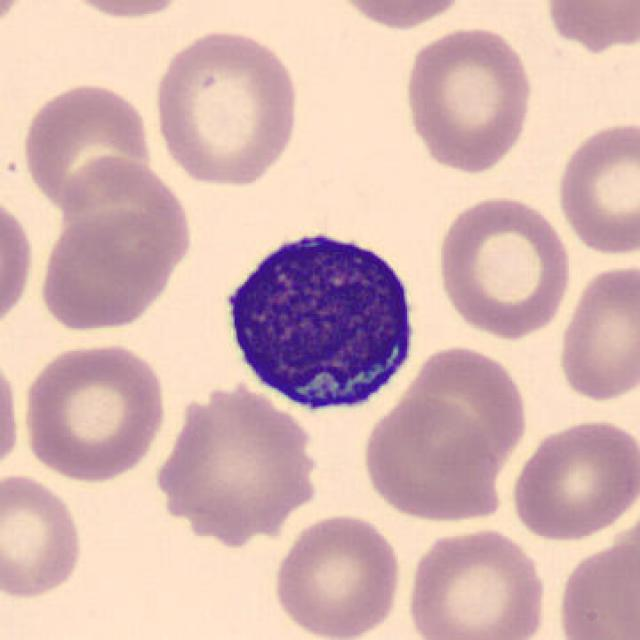Lymphocyte: (210, 215, 426, 418)
RBC: (147, 377, 326, 543), (149, 25, 304, 190), (18, 338, 170, 485), (398, 21, 537, 176), (432, 190, 574, 340), (18, 78, 156, 215), (359, 395, 505, 524), (54, 150, 195, 282), (34, 206, 176, 335), (268, 509, 405, 640), (402, 340, 532, 478), (401, 523, 551, 640), (507, 414, 638, 543), (553, 259, 638, 406), (551, 116, 638, 258), (0, 467, 87, 603), (552, 537, 636, 640), (538, 0, 638, 56), (0, 188, 37, 336), (323, 0, 472, 33), (0, 346, 25, 480), (53, 0, 199, 21), (0, 0, 30, 41)
